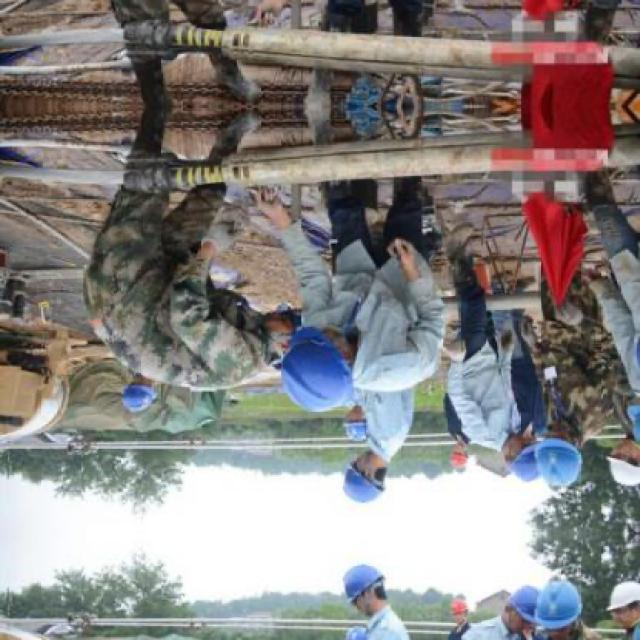con casco: (279, 302, 378, 414), (508, 428, 598, 487), (320, 442, 405, 504)
